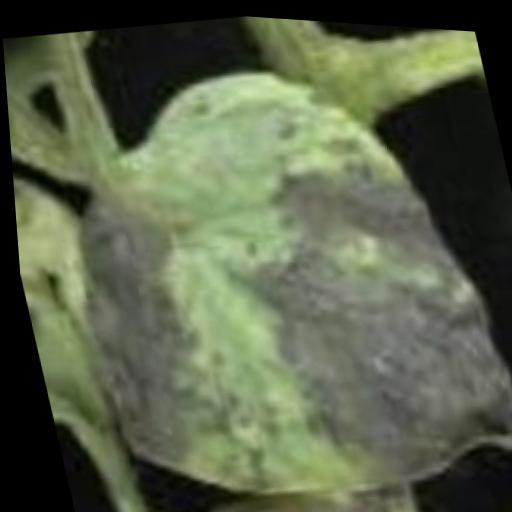Late Blight: (21, 22, 512, 512)
